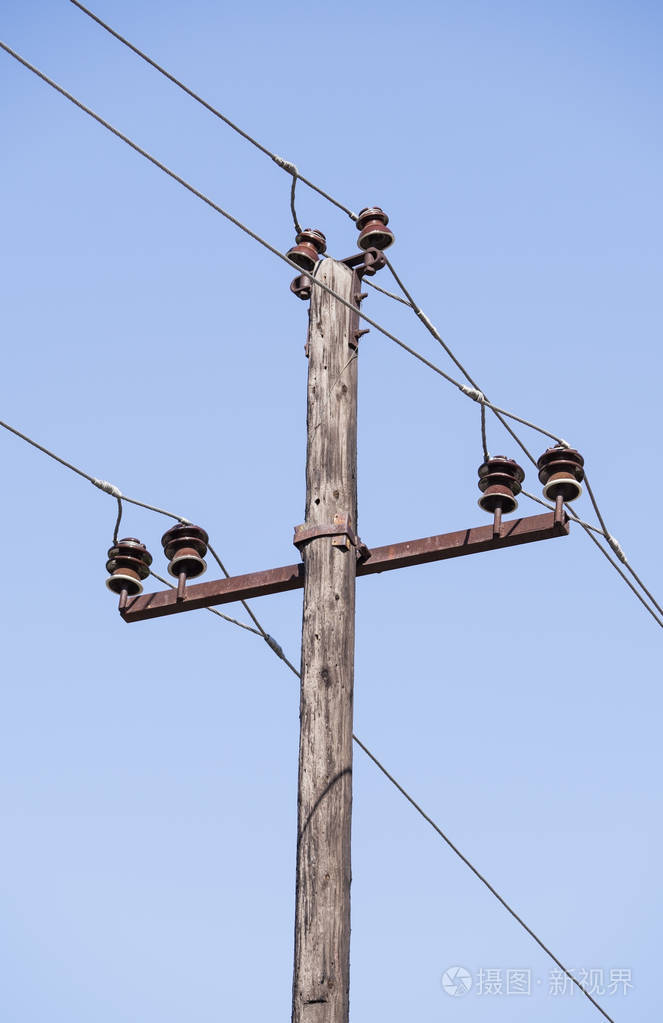insulator: (538, 448, 593, 504), (101, 542, 157, 594), (160, 521, 214, 573), (474, 460, 529, 507)
